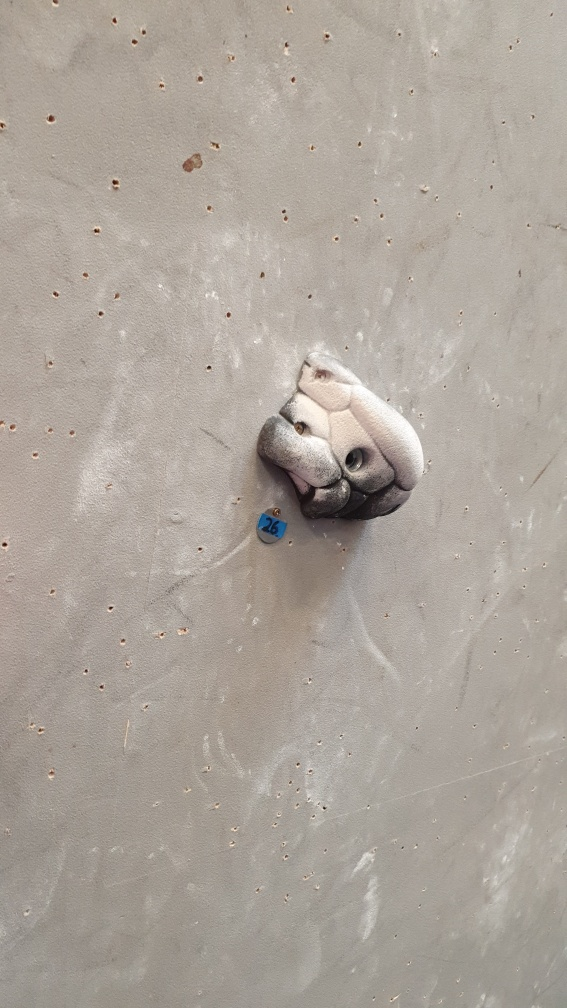Hand Start: (250, 502, 292, 549)
Jug: (255, 349, 426, 524)
